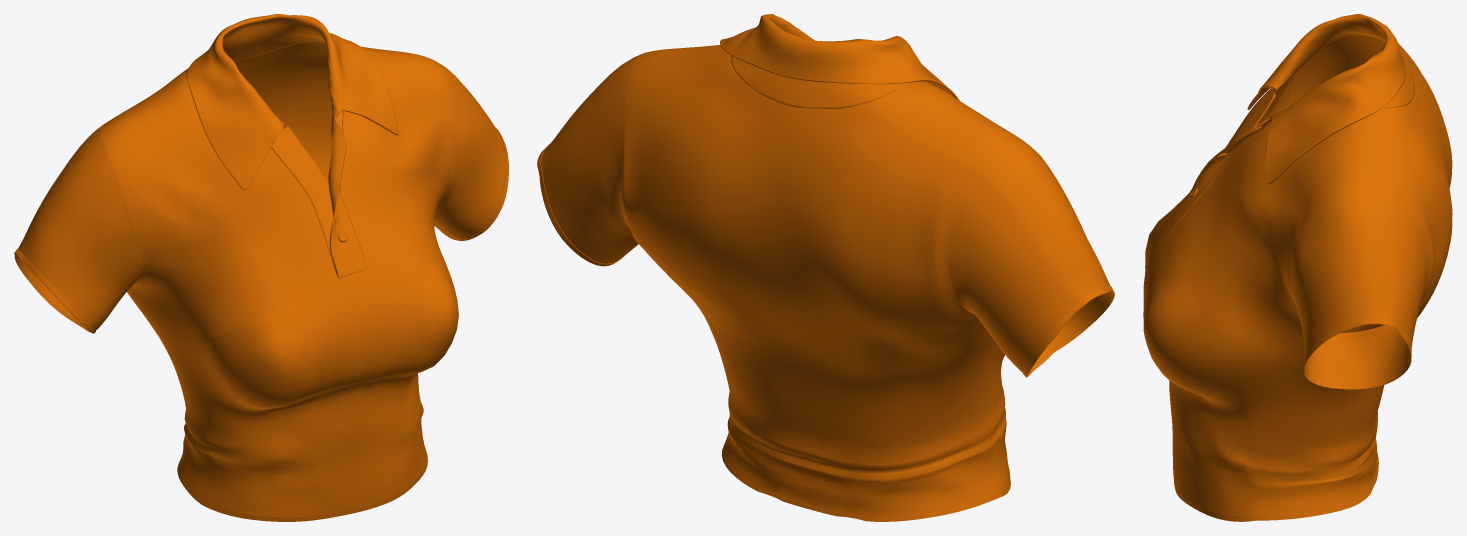
The model's file is camiseta4.glb.
The picture shows the model from 3 angles, left to right: view 1: azimuth 30°, elevation 25°; view 2: azimuth 150°, elevation 25°; view 3: azimuth 270°, elevation 25°; orthographic projection. The views are drawn at different scales.
Parts seen in each view (by area): view 1: hash_B0C171BA.model; view 2: hash_B0C171BA.model; view 3: hash_B0C171BA.model.
Boxes of the visible parts, x1,y1,x2,y2 form: hash_B0C171BA.model: (14, 14, 508, 521); hash_B0C171BA.model: (537, 14, 1114, 521); hash_B0C171BA.model: (1143, 14, 1452, 521).
Size of the model in its own units: 0.5594 by 0.4707 by 0.2992.
